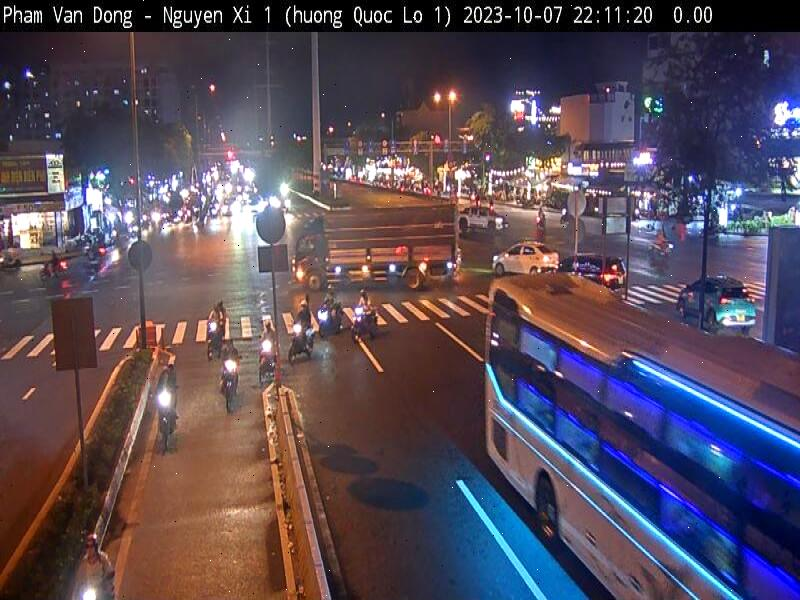bus: (482, 269, 800, 600)
car: (680, 274, 760, 328), (558, 248, 627, 288), (492, 244, 558, 278)
truck: (293, 196, 462, 293)
